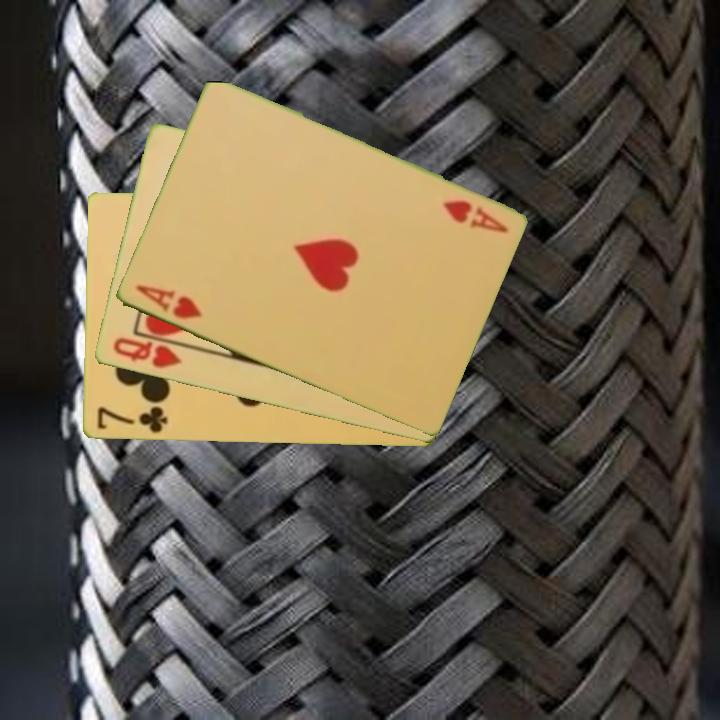7c: (93, 403, 170, 437)
Ah: (131, 281, 205, 322), (438, 196, 511, 236)
Qh: (109, 334, 184, 372)
